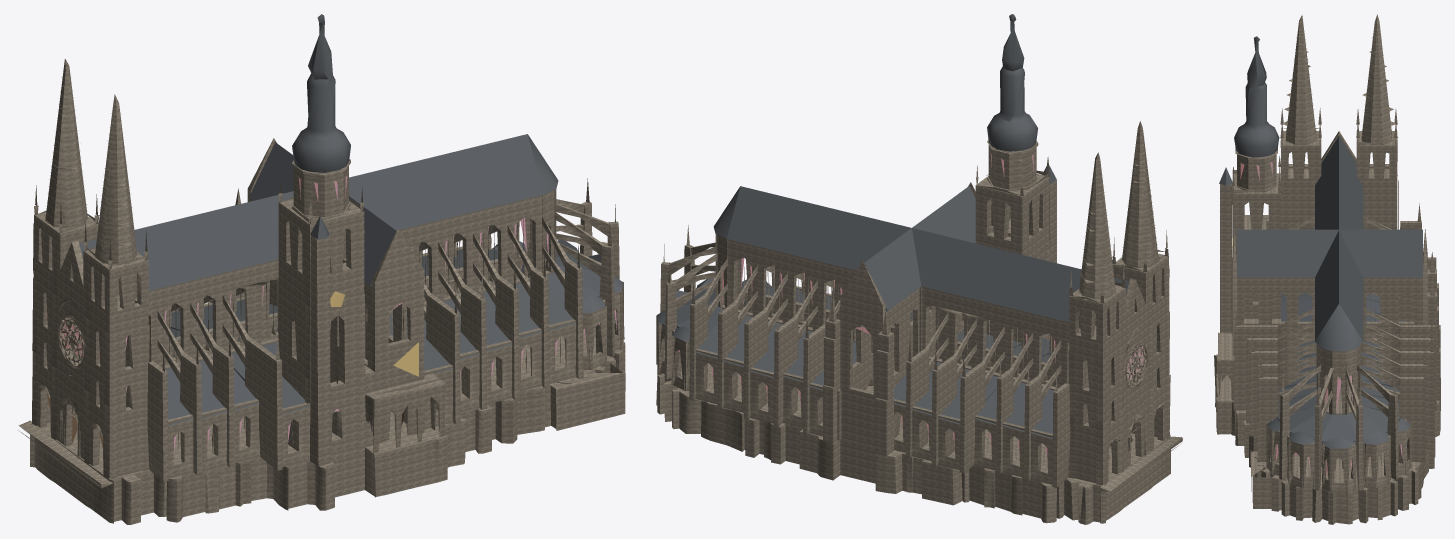
File: catedral.glb
The picture shows the model from 3 angles, left to right: view 1: azimuth 30°, elevation 25°; view 2: azimuth 150°, elevation 25°; view 3: azimuth 270°, elevation 25°; orthographic projection. The views are drawn at different scales.
Visible parts, largest first — view 1: SM_Catedral_SaoVito; view 2: SM_Catedral_SaoVito; view 3: SM_Catedral_SaoVito.
Boxes of the visible parts, x1,y1,x2,y2 form: SM_Catedral_SaoVito: (18, 14, 625, 524); SM_Catedral_SaoVito: (656, 14, 1182, 524); SM_Catedral_SaoVito: (1214, 14, 1440, 524).
Size of the model in its own units: 128 by 104 by 59.23.
5 materials, 1 textured.
